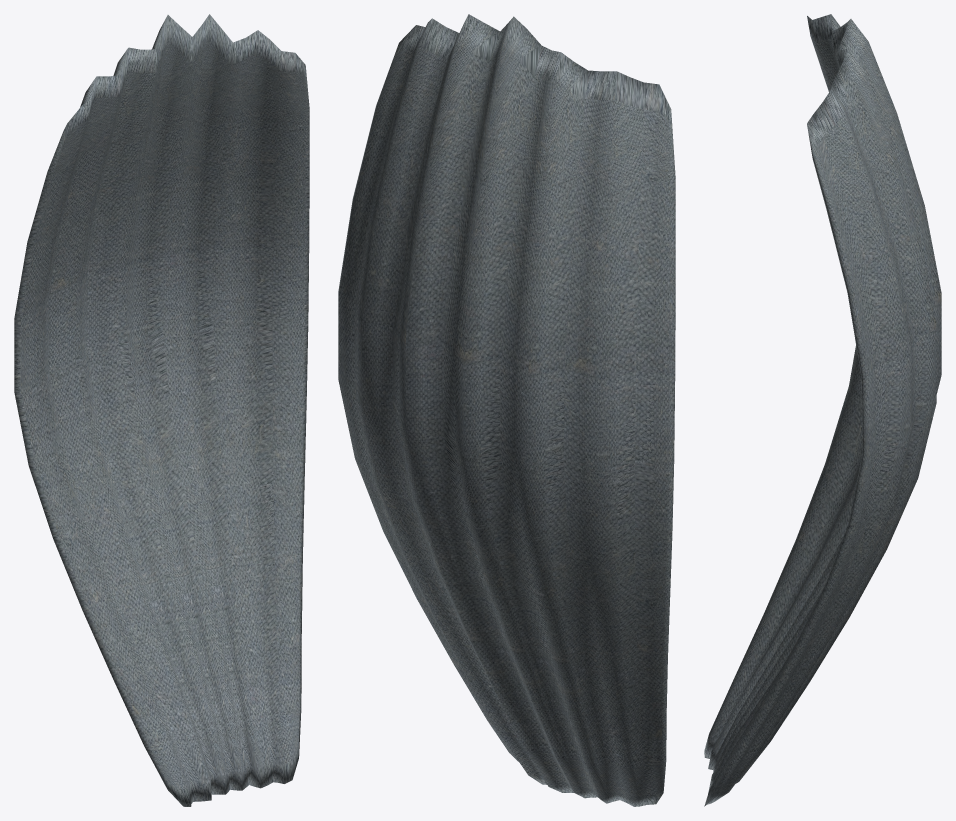
Rendered from cape.glb.
The picture shows the model from 3 angles, left to right: view 1: azimuth 30°, elevation 25°; view 2: azimuth 150°, elevation 25°; view 3: azimuth 270°, elevation 25°; orthographic projection. The views are drawn at different scales.
Visible parts, largest first — view 1: CapeCloth; view 2: CapeCloth; view 3: CapeCloth.
Boxes of the visible parts, x1,y1,x2,y2 form: CapeCloth: [14, 14, 309, 806]; CapeCloth: [338, 14, 675, 806]; CapeCloth: [704, 14, 941, 806].
Bounding box in the file's own units: 0.5814 × 1.38 × 0.3881.
1 material, 1 textured.
